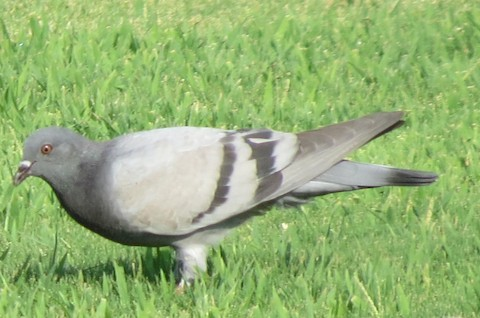pigeon: (11, 92, 443, 305)
